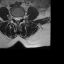CCS_normal: (16, 14, 18, 23)
LFS_normal: (20, 14, 22, 21)
LLS_normal: (18, 14, 20, 22)
RFS_normal: (12, 14, 14, 21)
RLS_normal: (14, 14, 16, 22)
